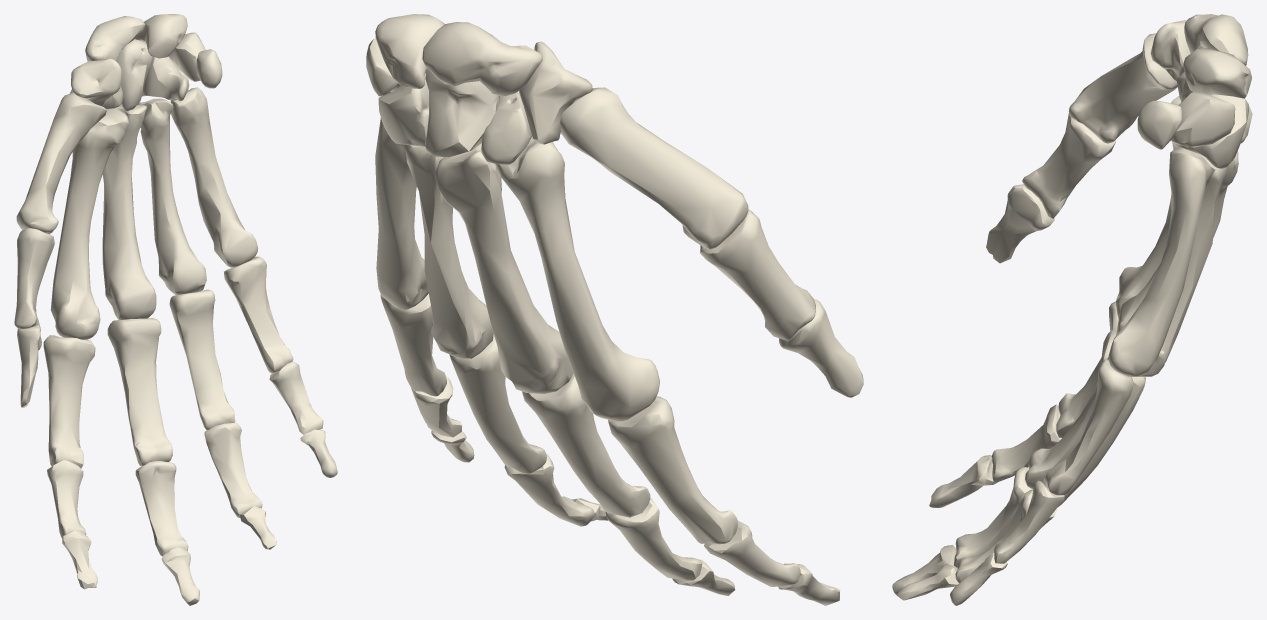
File: right-hand.glb
3 views of the same model, side by side, from view 1: azimuth 30°, elevation 25°; view 2: azimuth 150°, elevation 25°; view 3: azimuth 270°, elevation 25° (orthographic). The views are drawn at different scales.
Parts seen in each view (by area): view 1: Right second metacarpal bone, Right third metacarpal bone, Right fifth metacarpal bone, Right fourth metacarpal bone, Proximal phalanx of right middle finger, Right first metacarpal bone, Proximal phalanx of right index finger, Proximal phalanx of right ring finger, Proximal phalanx of right little finger, Middle phalanx of right middle finger, Middle phalanx of right ring finger, Proximal phalanx of right thumb (+14 smaller); view 2: Right second metacarpal bone, Right third metacarpal bone, Right first metacarpal bone, Right fourth metacarpal bone, Proximal phalanx of right index finger, Right fifth metacarpal bone, Proximal phalanx of right middle finger, Proximal phalanx of right thumb, Right scaphoid, Proximal phalanx of right ring finger, Right capitate, Right trapezium (+13 smaller); view 3: Right fifth metacarpal bone, Right first metacarpal bone, Proximal phalanx of right thumb, Proximal phalanx of right little finger, Right fourth metacarpal bone, Distal phalanx of right thumb, Right lunate, Right triquetral, Right scaphoid, Proximal phalanx of right middle finger, Middle phalanx of right little finger, Middle phalanx of right index finger (+13 smaller).
Part boxes in pixels (box(x1,y1,x2,y2)): Right second metacarpal bone: box(50, 108, 128, 339); Right third metacarpal bone: box(102, 104, 156, 319); Right fifth metacarpal bone: box(170, 87, 257, 267); Right fourth metacarpal bone: box(137, 98, 206, 295); Proximal phalanx of right middle finger: box(107, 318, 172, 466); Right first metacarpal bone: box(16, 92, 106, 233); Proximal phalanx of right index finger: box(43, 335, 95, 468); Proximal phalanx of right ring finger: box(169, 289, 235, 430); Proximal phalanx of right little finger: box(224, 256, 293, 373); Middle phalanx of right middle finger: box(135, 461, 188, 556); Middle phalanx of right ring finger: box(204, 423, 262, 518); Proximal phalanx of right thumb: box(14, 228, 54, 328); Right second metacarpal bone: box(495, 136, 659, 421); Right third metacarpal bone: box(435, 143, 573, 393); Right first metacarpal bone: box(560, 87, 748, 249); Right fourth metacarpal bone: box(405, 144, 493, 358); Proximal phalanx of right index finger: box(608, 396, 737, 544); Right fifth metacarpal bone: box(375, 118, 428, 310); Proximal phalanx of right middle finger: box(522, 373, 650, 517); Proximal phalanx of right thumb: box(700, 209, 815, 340); Right scaphoid: box(422, 22, 542, 96); Proximal phalanx of right ring finger: box(449, 334, 546, 473); Right capitate: box(425, 69, 499, 157); Right trapezium: box(518, 41, 592, 144); Right fifth metacarpal bone: box(1108, 147, 1211, 376); Right first metacarpal bone: box(1068, 33, 1177, 143); Proximal phalanx of right thumb: box(1022, 113, 1116, 218); Proximal phalanx of right little finger: box(1044, 360, 1132, 495); Right fourth metacarpal bone: box(1138, 154, 1228, 376); Distal phalanx of right thumb: box(986, 184, 1054, 263); Right lunate: box(1183, 48, 1251, 98); Right triquetral: box(1171, 91, 1235, 147); Right scaphoid: box(1184, 14, 1248, 65); Proximal phalanx of right middle finger: box(1025, 330, 1116, 489); Middle phalanx of right little finger: box(994, 480, 1064, 563); Middle phalanx of right index finger: box(991, 404, 1061, 482).
Size of the model in its own units: 0.105 by 0.1587 by 0.0849.
